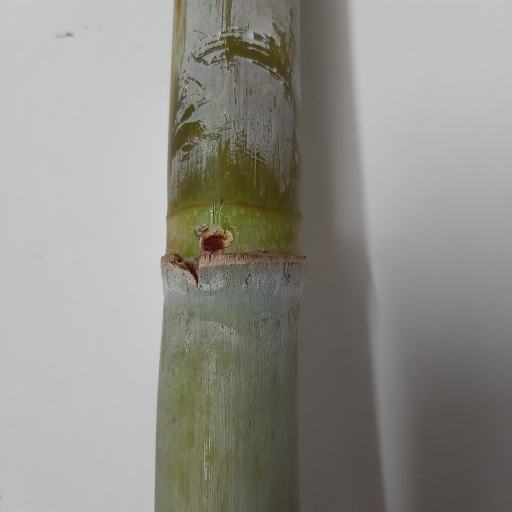Damage_Bud: (199, 227, 232, 253)
